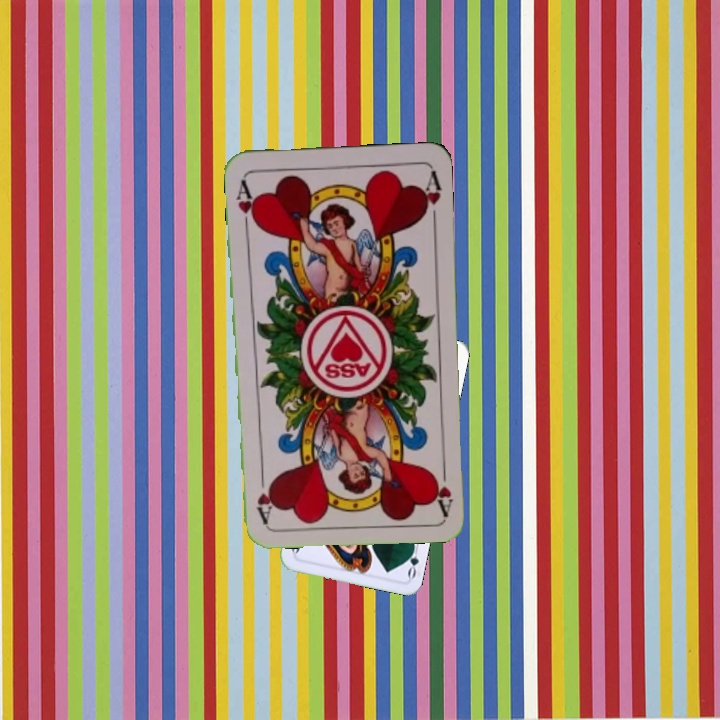GO: (401, 539, 422, 580)
HA: (232, 175, 260, 233), (429, 457, 456, 516)
